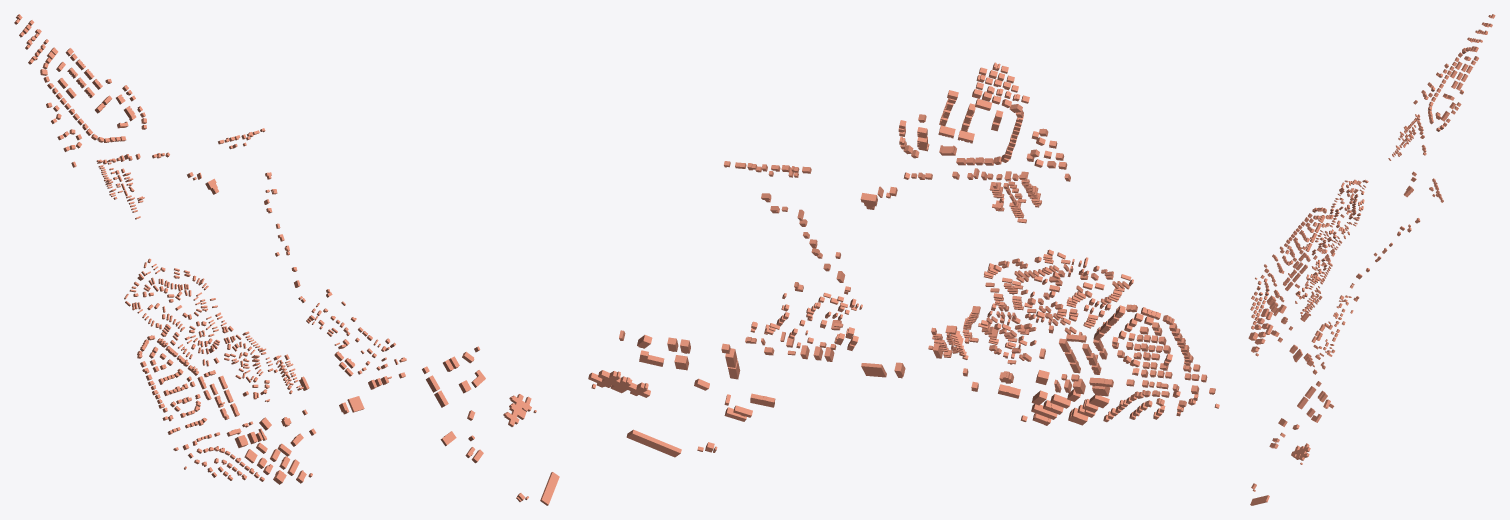
3 renders of one model, left to right at view 1: azimuth 30°, elevation 25°; view 2: azimuth 150°, elevation 25°; view 3: azimuth 270°, elevation 25°, orthographic. The views are drawn at different scales.
Parts seen in each view (by area): view 1: mesh; view 2: mesh; view 3: mesh.
Boxes of the visible parts, x1,y1,x2,y2 form: mesh: (14,14,559,505); mesh: (588,62,1219,457); mesh: (1248,14,1495,505).
Bounding box in the file's own units: 1660 × 1856 × 1173.
